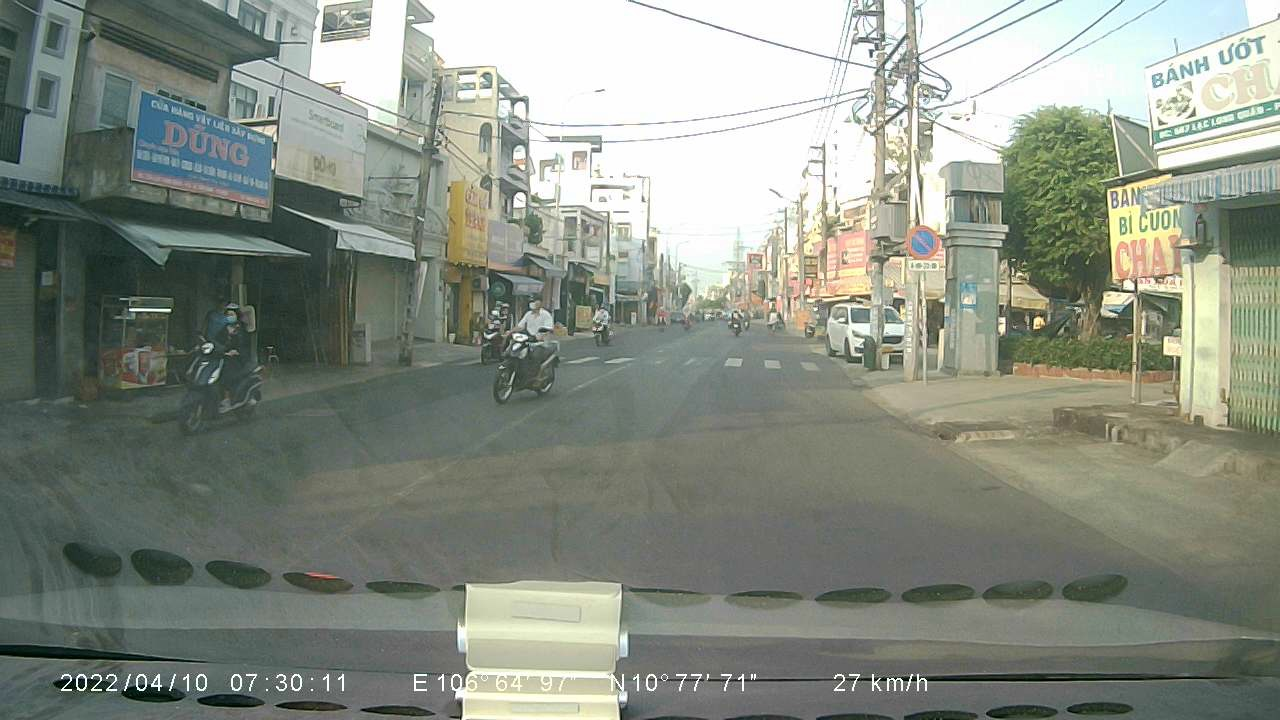Cam do xe: (901, 220, 943, 258)
